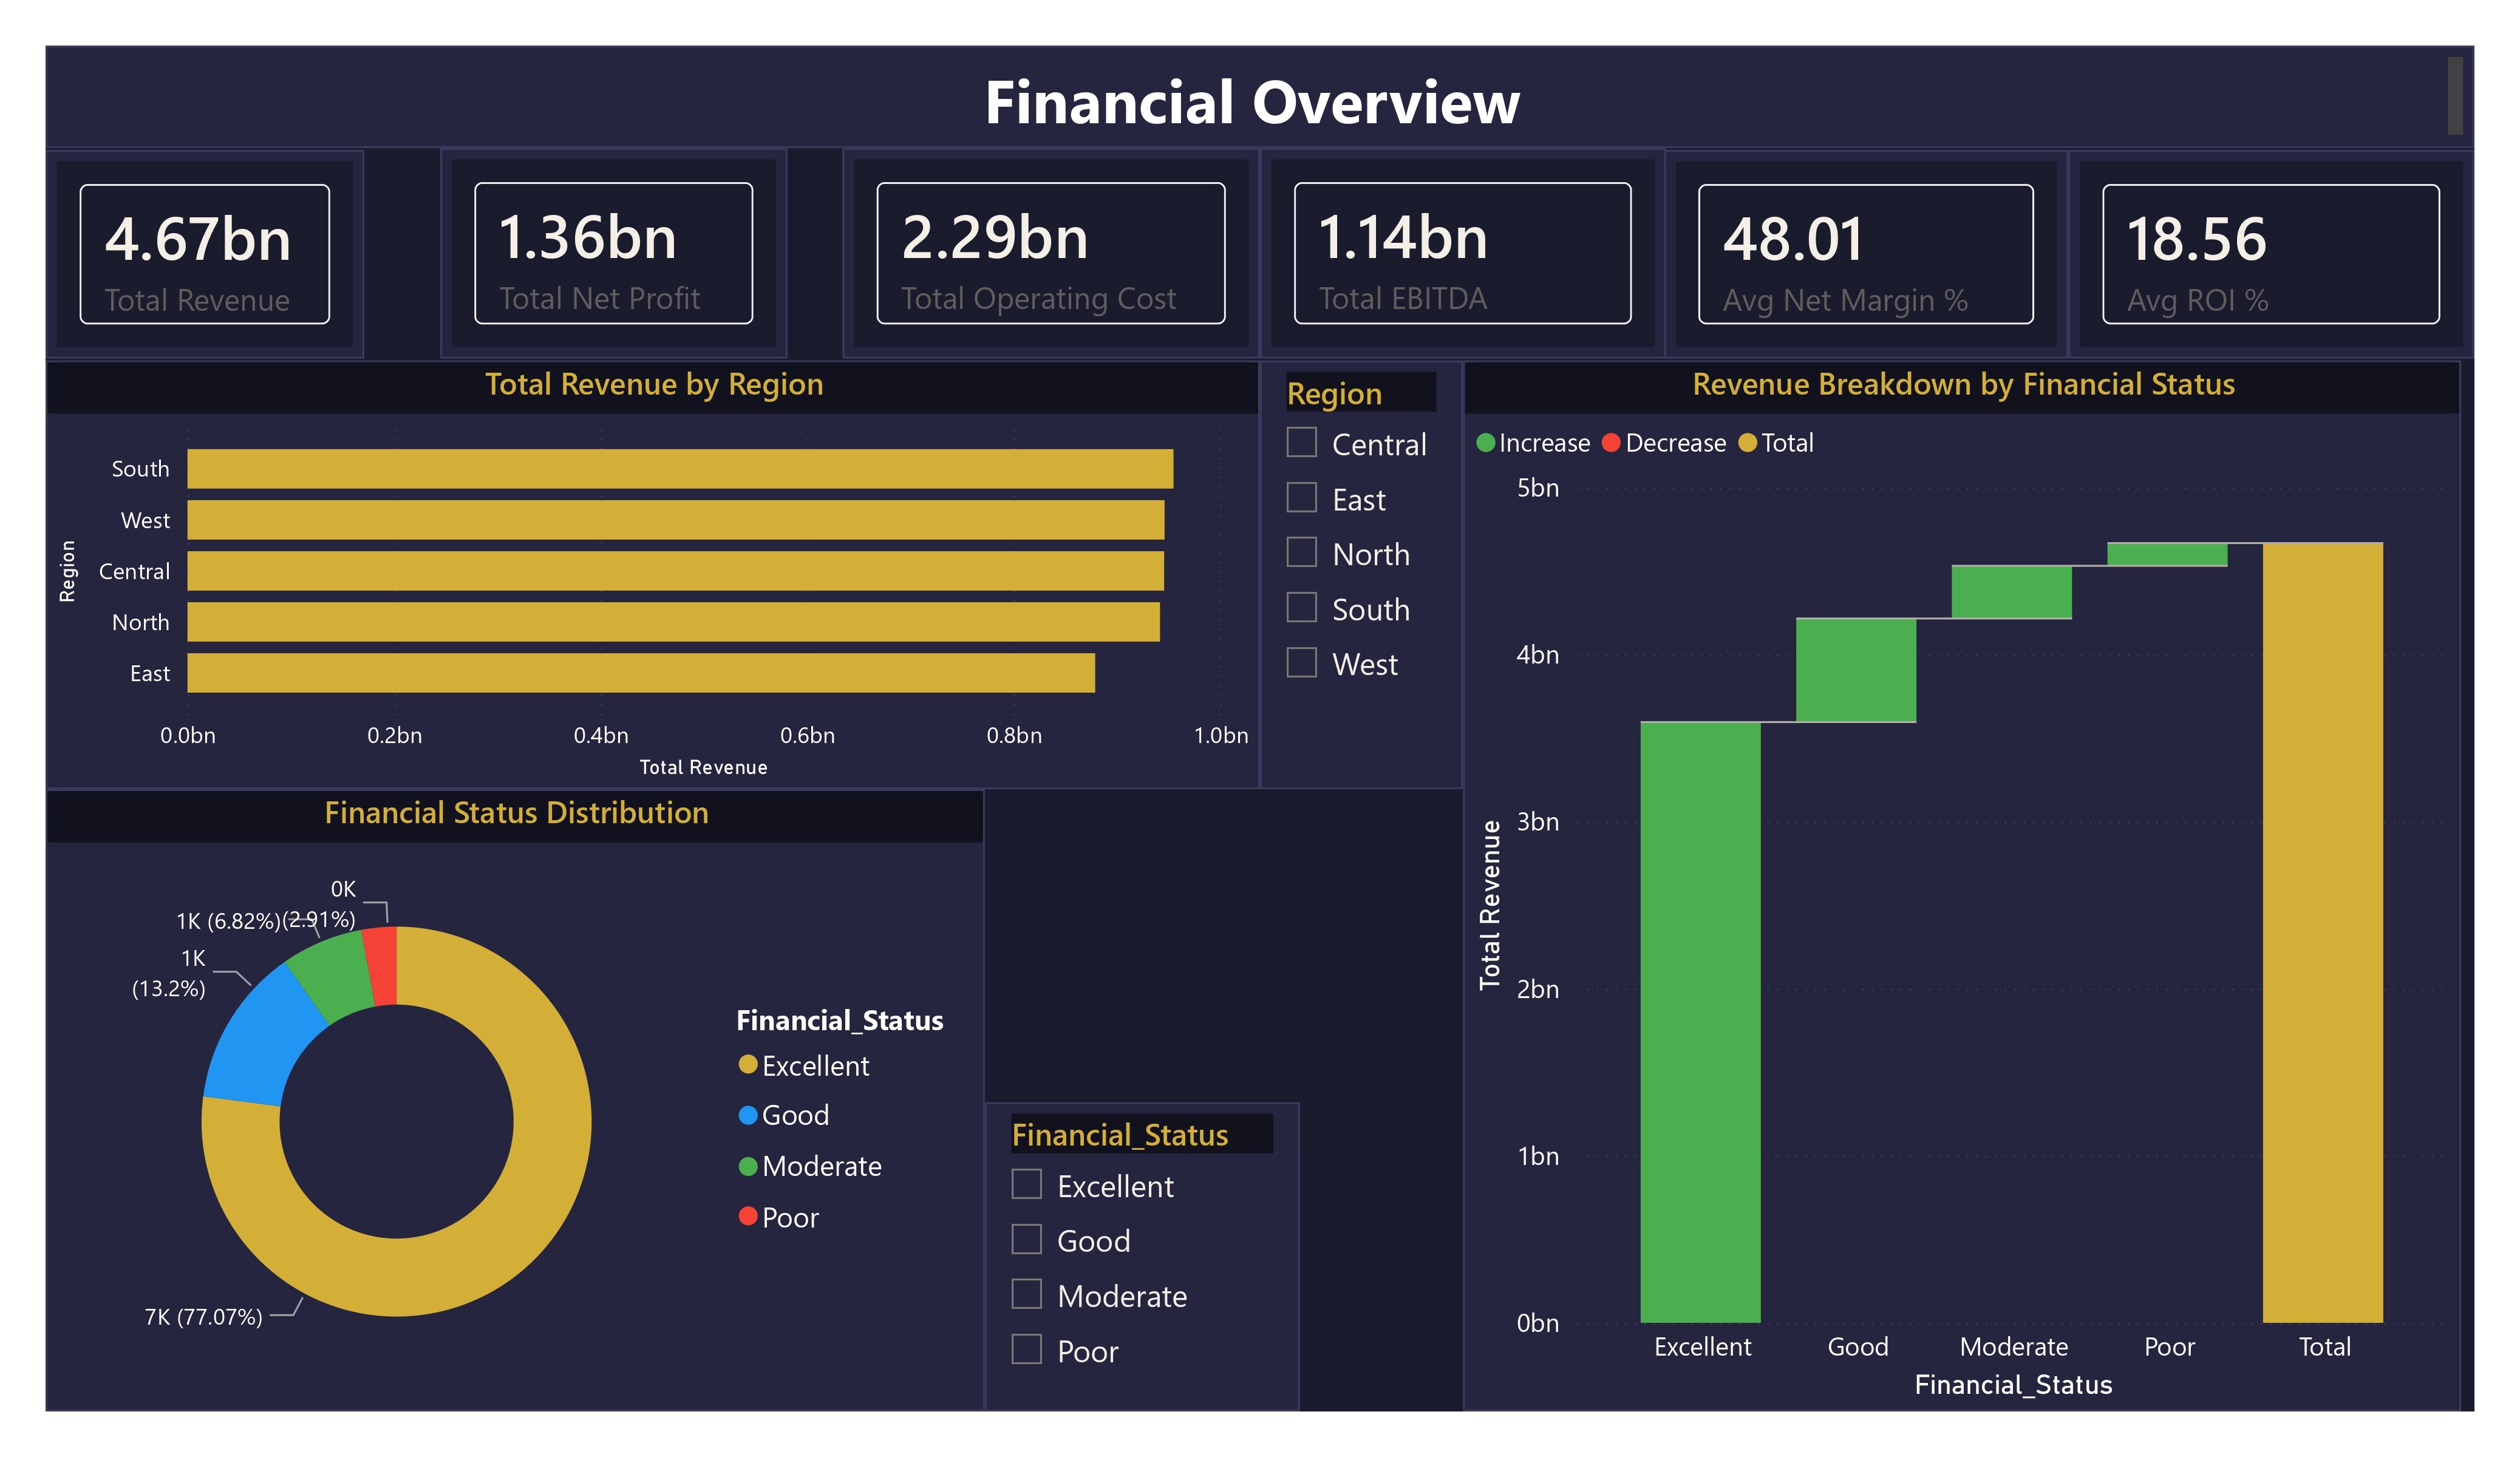

Layout of this report page (visuals, bound fields, positions):
{"tool":"powerbi","page":{"name":"Financial Overview","canvas":[1280,720],"ordinal":0},"visuals":[{"type":"cardVisual","fields":{"Data":["financial_data.Total Revenue"]},"box":[0,54.5,168.1,110.2],"z":0},{"type":"cardVisual","fields":{"Data":["financial_data.Avg Net Margin %"]},"box":[853.5,54.7,212.8,110.5],"z":1000},{"type":"cardVisual","fields":{"Data":["financial_data.Total EBITDA"]},"box":[640.1,54.4,213.4,110.3],"z":2000},{"type":"cardVisual","fields":{"Data":["financial_data.Total Net Profit"]},"box":[207.7,54.4,183.3,110.3],"z":3000},{"type":"cardVisual","fields":{"Data":["financial_data.Avg ROI %"]},"box":[1066.3,54.7,214,110.5],"z":4000},{"type":"cardVisual","fields":{"Data":["financial_data.Total Operating Cost"]},"box":[419.6,54.4,220.5,110.3],"z":5000},{"type":"waterfallChart","title":"Revenue Breakdown by Financial Status","fields":{"Category":["financial_data.Financial_Status"],"Y":["financial_data.Total Revenue"]},"box":[746.9,165.9,526.5,554.4],"z":6000},{"type":"donutChart","title":"Financial Status Distribution","fields":{"Y":["financial_data.Total Transactions"],"Category":["financial_data.Financial_Status"]},"box":[0,391.8,495.4,328.4],"z":7000},{"type":"clusteredBarChart","title":"Total Revenue by Region","fields":{"Category":["financial_data.Region"],"Y":["financial_data.Total Revenue"]},"box":[0,165.9,640.1,226],"z":8000},{"type":"slicer","fields":{"Values":["financial_data.Financial_Status"]},"box":[495.4,556.6,165.9,163.6],"z":9000},{"type":"slicer","fields":{"Values":["financial_data.Region"]},"box":[640.1,165.9,106.9,226],"z":10000},{"type":"textbox","box":[0,0,1280.3,54.4],"z":11000}]}

Visuals, with their boxes on the page's 1280x720 design canvas (x1, y1, x2, y2). These are canvas units, not pixel positions in the 2520x1457 screenshot, which may show the page scaled, cropped or inside an application window:
cardVisual - financial_data.Total Revenue: 0/54/168/165
cardVisual - financial_data.Avg Net Margin %: 854/55/1066/165
cardVisual - financial_data.Total EBITDA: 640/54/854/165
cardVisual - financial_data.Total Net Profit: 208/54/391/165
cardVisual - financial_data.Avg ROI %: 1066/55/1280/165
cardVisual - financial_data.Total Operating Cost: 420/54/640/165
"Revenue Breakdown by Financial Status" waterfallChart: 747/166/1273/720
"Financial Status Distribution" donutChart: 0/392/495/720
"Total Revenue by Region" clusteredBarChart: 0/166/640/392
slicer - financial_data.Financial_Status: 495/557/661/720
slicer - financial_data.Region: 640/166/747/392
textbox: 0/0/1280/54
